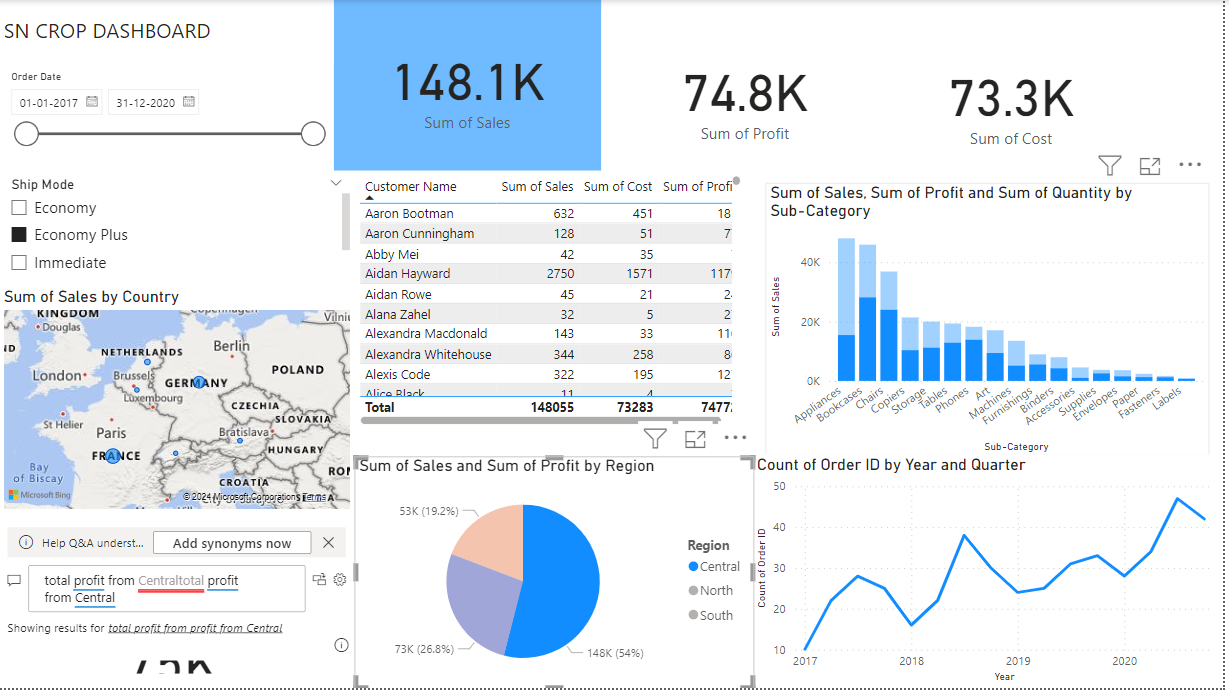

This screenshot's page, from the dashboard's own definition file:
{"tool":"powerbi","page":{"name":"Page 1","canvas":[1280,720],"ordinal":0},"visuals":[{"type":"card","fields":{"Values":["List of Orders.Sales"]},"box":[349.9,0,279.9,178.4],"z":0},{"type":"card","fields":{"Values":["List of Orders.Profit"]},"box":[629.8,12.3,300.5,178.4],"z":1000},{"type":"card","fields":{"Values":["List of Orders.Cost"]},"box":[909.8,12.3,300.5,188],"z":2000},{"type":"tableEx","fields":{"Values":["List of Orders.Customer Name","List of Orders.Sales","List of Orders.Cost","List of Orders.Profit"]},"box":[371.9,178.4,408.9,270.3],"z":3000},{"type":"clusteredColumnChart","fields":{"Y":["List of Orders.Sales"],"Category":["List of Orders.Sub-Category"]},"box":[801.4,190.7,463.8,286.8],"z":4000},{"type":"lineChart","fields":{"Y":["List of Orders.Order ID"],"Category":["List of Orders.Order Date.Variation.Date Hierarchy.Year","List of Orders.Order Date.Variation.Date Hierarchy.Quarter"]},"box":[790.4,477.5,489.9,242.9],"z":5000},{"type":"pieChart","fields":{"Category":["List of Orders.Region"],"Y":["List of Orders.Sales"]},"box":[371.9,477.5,418.5,242.9],"z":6000},{"type":"map","fields":{"Category":["List of Orders.Country"],"Size":["List of Orders.Sales"]},"box":[0,300.5,371.9,237.4],"z":7000},{"type":"textbox","box":[0,12.5,350,56.2],"z":8000},{"type":"slicer","fields":{"Values":["List of Orders.Ship Mode"]},"box":[0,178.4,371.9,111.1],"z":9000},{"type":"slicer","fields":{"Values":["List of Orders.Order Date"]},"box":[0,68.5,349.6,110],"z":10000},{"type":"qnaVisual","box":[0,538,372,182],"z":11000}]}

Visuals, with their boxes on the page's 1280x720 design canvas (x1, y1, x2, y2). These are canvas units, not pixel positions in the 1229x692 screenshot, which may show the page scaled, cropped or inside an application window:
card - List of Orders.Sales: left=350, top=0, right=630, bottom=178
card - List of Orders.Profit: left=630, top=12, right=930, bottom=191
card - List of Orders.Cost: left=910, top=12, right=1210, bottom=200
tableEx - List of Orders.Customer Name x List of Orders.Sales: left=372, top=178, right=781, bottom=449
clusteredColumnChart - List of Orders.Sales x List of Orders.Sub-Category: left=801, top=191, right=1265, bottom=478
lineChart - List of Orders.Order ID x List of Orders.Order Date.Variation.Date Hierarchy.Year: left=790, top=478, right=1280, bottom=720
pieChart - List of Orders.Region x List of Orders.Sales: left=372, top=478, right=790, bottom=720
map - List of Orders.Country x List of Orders.Sales: left=0, top=300, right=372, bottom=538
textbox: left=0, top=12, right=350, bottom=69
slicer - List of Orders.Ship Mode: left=0, top=178, right=372, bottom=290
slicer - List of Orders.Order Date: left=0, top=68, right=350, bottom=178
qnaVisual: left=0, top=538, right=372, bottom=720
